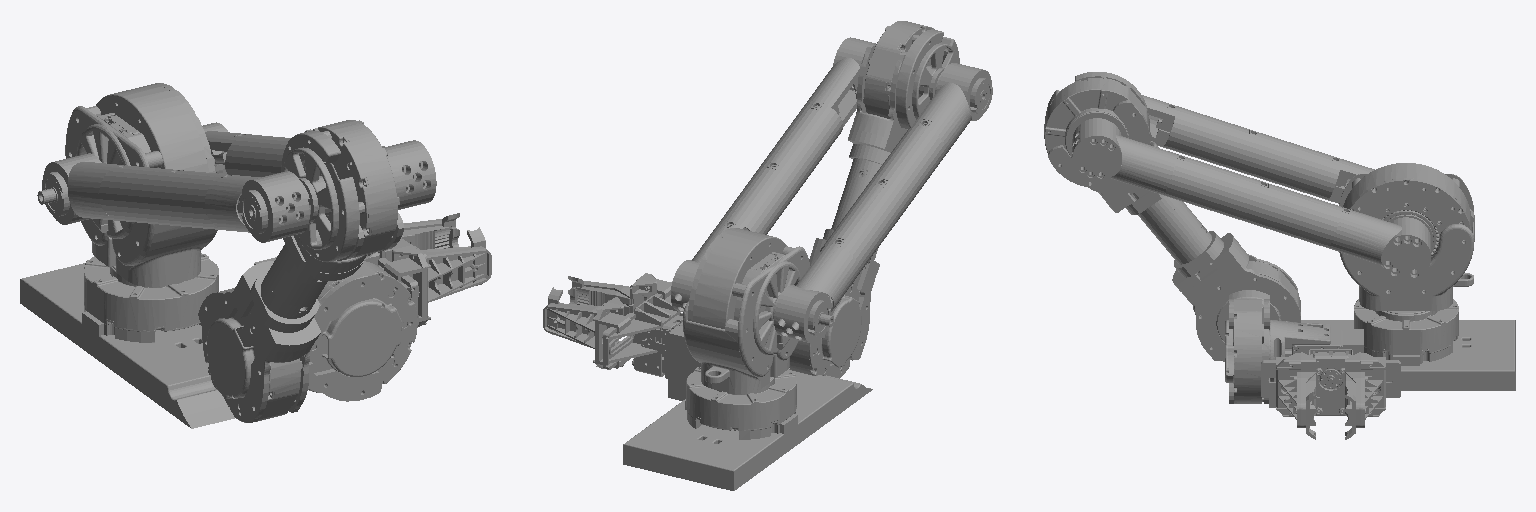
robot.urdf — a6x_robot:
<?xml version="1.0"?>
<robot name="a6x_robot">
    <material name="grey">
        <color rgba="0.64 0.64 0.64 1.0" />
    </material>

    <link name="base_link">
        <visual>
            <geometry>
               <mesh filename="package://a6x_description/meshes/visual/base_link.STL" />
            </geometry>
            <origin xyz="0.000 0.000 0.000" rpy="0.000 0.000 0.000" />
            <material name="grey" />
        </visual>
        <collision>
            <geometry>
               <mesh filename="package://a6x_description/meshes/visual/base_link.STL" />
            </geometry>
            <origin xyz="0.000 0.000 0.000" rpy="0.000 0.000 0.000" />
        </collision>
        <inertial>
            <mass value="2.052381" />
            <origin xyz="0.010773 -0.013141 0.019508" rpy="0 0 0" />
            <inertia ixx="0.007060" ixy="-0.000705" ixz="-0.000013" 
                     iyy="0.003238" iyz="0.000167" 
                     izz="0.009216" />
        </inertial>
    </link>

    <joint name="shoulder_yaw_joint" type="revolute">
        <parent link="base_link" />
        <child link="shoulder_link" />
        <origin xyz="0.000 0.000 0.063" rpy="0 0 0" />
        <axis xyz="0 0 1" />
        <limit lower="-3.14" upper="3.14" effort="10" velocity="1.0" />
    </joint>

    <link name="shoulder_link">
        <visual>
            <geometry>
               <mesh filename="package://a6x_description/meshes/visual/shoulder_link.STL" />
            </geometry>
            <origin xyz="0.000 0.000 0.000" rpy="0.000 0.000 0.000" />
            <material name="grey" />
        </visual>
        <collision>
            <geometry>
               <mesh filename="package://a6x_description/meshes/visual/shoulder_link.STL" />
            </geometry>
            <origin xyz="0.000 0.000 0.000" rpy="0.000 0.000 0.000" />
        </collision>
        <inertial>
            <mass value="0.453182" />
            <origin xyz="-0.012231 0.000430 0.037054" rpy="0 0 0" />
            <inertia ixx="0.000959" ixy="0.000002" ixz="-0.000103" 
                     iyy="0.000618" iyz="-0.000004" 
                     izz="0.000763" />
        </inertial>
    </link>

    <joint name="arm_roll_joint" type="revolute">
        <parent link="shoulder_link" />
        <child link="arm_link" />
        <origin xyz="-0.039 0.000 0.070" rpy="0 0 0" />
        <axis xyz="-1 0 0" />
        <limit lower="-0.785" upper="2.967" effort="10" velocity="1.0" />
    </joint>

    <link name="arm_link">
        <visual>
            <geometry>
               <mesh filename="package://a6x_description/meshes/visual/arm_link.STL" />
            </geometry>
            <origin xyz="0.000 0.000 0.000" rpy="0.000 0.000 0.000" />
            <material name="grey" />
        </visual>
        <collision>
            <geometry>
               <mesh filename="package://a6x_description/meshes/visual/arm_link.STL" />
            </geometry>
            <origin xyz="0.000 0.000 0.000" rpy="0.000 0.000 0.000" />
        </collision>
        <inertial>
            <mass value="1.691838" />
            <origin xyz="0.031472 -0.101109 0.035700" rpy="0 0 0" />
            <inertia ixx="0.024919" ixy="0.000300" ixz="-0.000105" 
                     iyy="0.006756" iyz="-0.007400" 
                     izz="0.024952" />
        </inertial>
    </link>

    <joint name="forearm_roll_joint" type="revolute">
        <parent link="arm_link" />
        <child link="forearm_link" />
        <origin xyz="0.000 -0.283 0.100" rpy="0 0 0" />
        <axis xyz="-1 0 0" />
        <limit lower="-0.205" upper="5.350" effort="10" velocity="1.0" />
    </joint>
    
    <link name="forearm_link">
        <visual>
            <geometry>
               <mesh filename="package://a6x_description/meshes/visual/forearm_link.STL" />
            </geometry>
            <origin xyz="0.000 0.000 0.000" rpy="0.000 0.000 0.000" />
            <material name="grey" />
        </visual>
        <collision>
            <geometry>
               <mesh filename="package://a6x_description/meshes/visual/forearm_link.STL" />
            </geometry>
            <origin xyz="0.000 0.000 0.000" rpy="0.000 0.000 0.000" />
        </collision>
        <inertial>
            <mass value="1.652648" />
            <origin xyz="0.037370 0.063424 -0.084543" rpy="0 0 0" />
            <inertia ixx="0.018666" ixy="0.000252" ixz="-0.000337" 
                     iyy="0.011953" iyz="-0.008070" 
                     izz="0.007223" />
        </inertial>
    </link>

    <joint name="lower_wrist_roll_joint" type="revolute">
        <parent link="forearm_link" />
        <child link="lower_wrist_link" />
        <origin xyz="0.059 0.139 -0.185" rpy="0 0 0" />
        <axis xyz="1 0 0" />
        <limit lower="-3.14" upper="3.14" effort="10" velocity="1.0" />
    </joint>

    <link name="lower_wrist_link">
        <visual>
            <geometry>
              <mesh filename="package://a6x_description/meshes/visual/lower_wrist_link.STL" /> 
            </geometry>
            <origin xyz="0.000 0.000 0.000" rpy="0.000 0.000 0.000" />
            <material name="grey" />
        </visual>
        <collision>
            <geometry>
               <mesh filename="package://a6x_description/meshes/visual/lower_wrist_link.STL" />
            </geometry>
            <origin xyz="0.000 0.000 0.000" rpy="0.000 0.000 0.000" />
        </collision>
        <inertial>
            <mass value="0.628723" />
            <origin xyz="0.052187 0.000889 0.000348" rpy="0 0 0" />
            <inertia ixx="0.000438" ixy="-0.000003" ixz="0.000002" 
                     iyy="0.000865" iyz="-0.000001" 
                     izz="0.000550" />
        </inertial>
    </link>

    <joint name="upper_wrist_pitch_joint" type="revolute">
        <parent link="lower_wrist_link" />
        <child link="upper_wrist_link" />
        <origin xyz="0.060 0.020 0.000" rpy="0 0 0" />
        <axis xyz="0 1 0" />
        <limit lower="-1.57" upper="1.57" effort="10" velocity="1.0" />
    </joint>

    <link name="upper_wrist_link">
        <visual>
            <geometry>
               <mesh filename="package://a6x_description/meshes/visual/upper_wrist_link.STL" />
            </geometry>
            <origin xyz="0.000 0.000 0.000" rpy="0.000 0.000 0.000" />
            <material name="grey" />
        </visual>
        <collision>
            <geometry>
               <mesh filename="package://a6x_description/meshes/visual/upper_wrist_link.STL" />
            </geometry>
            <origin xyz="0.000 0.000 0.000" rpy="0.000 0.000 0.000" />
        </collision>
        <inertial>
            <mass value="0.279057" />
            <origin xyz="-0.001436 0.028250 0.000000" rpy="0 0 0" />
            <inertia ixx="0.000143" ixy="0.000005" ixz="0.000000" 
                     iyy="0.000087" iyz="0.000000" 
                     izz="0.000135" />
        </inertial>
    </link>

    <joint name="palm_roll_joint" type="revolute">
        <parent link="upper_wrist_link" />
        <child link="palm_link" />
        <origin xyz="0.019 0.055 0.000" rpy="0 0 0" />
        <axis xyz="1 0 0" />
        <limit lower="-3.14" upper="3.14" effort="10" velocity="1.0" />
    </joint>

    <link name="palm_link">
        <visual>
            <geometry>
               <mesh filename="package://a6x_description/meshes/visual/palm_link.STL" />
            </geometry>
            <origin xyz="0.000 0.000 0.000" rpy="0.000 0.000 0.000" />
            <material name="grey" />
        </visual>
        <collision>
            <geometry>
               <mesh filename="package://a6x_description/meshes/visual/palm_link.STL" />
            </geometry>
            <origin xyz="0.000 0.000 0.000" rpy="0.000 0.000 0.000" />
        </collision>
        <inertial>
            <mass value="0.216056" />
            <origin xyz="0.026410 0.000000 -0.008366" rpy="0 0 0" />
            <inertia ixx="0.000145" ixy="0.000000" ixz="0.000007" 
                     iyy="0.000080" iyz="0.000000" 
                     izz="0.000126" />
        </inertial>
    </link>

    <joint name="left_finger_prismatic_joint" type="prismatic">
        <parent link="palm_link" />
        <child link="left_finger_link" />
        <origin xyz="0.038 -0.040 0.016" rpy="0 0 0" />
        <axis xyz="0 -1 0" />
        <limit lower="-0.010" upper="0.019" effort="1" velocity="4.8" />
    </joint>

    <joint name="right_finger_prismatic_joint" type="prismatic">
        <mimic joint="left_finger_prismatic_joint" multiplier="-1" offset="0" />
        <parent link="palm_link" />
        <child link="right_finger_link" />
        <origin xyz="0.038 0.040 0.016" rpy="0 0 0" />
        <axis xyz="0 -1 0" />
        <limit lower="-0.019" upper="0.010" effort="1" velocity="4.8" />
    </joint>

    <link name="left_finger_link">
        <visual>
            <geometry>
               <mesh filename="package://a6x_description/meshes/visual/left_finger_link.STL" />
            </geometry>
            <origin xyz="0.000 0.000 0.000" rpy="0.000 0.000 0.000" />
            <material name="grey" />
        </visual>
        <collision>
            <geometry>
               <mesh filename="package://a6x_description/meshes/visual/left_finger_link.STL" />
            </geometry>
            <origin xyz="0.000 0.000 0.000" rpy="0.000 0.000 0.000" />
        </collision>
        <inertial>
            <mass value="0.111661" />
            <origin xyz="0.036901 0.012552 -0.016199" rpy="0 0 0" />
            <inertia ixx="0.000028" ixy="0.000012" ixz="0.000000" 
                     iyy="0.000075" iyz="0.000000" 
                     izz="0.000065" />
        </inertial>
    </link>

    <link name="right_finger_link">
        <visual>
            <geometry>
               <mesh filename="package://a6x_description/meshes/visual/right_finger_link.STL" />
            </geometry>
            <origin xyz="0.000 0.000 0.000" rpy="0.000 0.000 0.000" />
            <material name="grey" />
        </visual>
        <collision>
            <geometry>
               <mesh filename="package://a6x_description/meshes/visual/right_finger_link.STL" />
            </geometry>
            <origin xyz="0.000 0.000 0.000" rpy="0.000 0.000 0.000" />
        </collision>
                <inertial>
            <mass value="0.111661" />
            <origin xyz="0.036898 -0.012549 -0.016201" rpy="0 0 0" />
            <inertia ixx="0.000028" ixy="-0.000012" ixz="0.000000" 
                     iyy="0.000075" iyz="0.000000" 
                     izz="0.000065" />
        </inertial>
    </link>

    <joint name="end_effector_fixed_joint" type="fixed">
        <parent link="palm_link" />
        <child link="end_effector_link" />
        <origin xyz="0.1 0.000 0.000" rpy="0 0 0" />
    </joint>

    <link name="end_effector_link" />
</robot>

--- What the picture shows (computed from the rendered views, not written in the file) ---
Views: 3 orthographic renders of the robot side by side, from view 1: azimuth 30°, elevation 25°; view 2: azimuth 150°, elevation 25°; view 3: azimuth 270°, elevation 25°.
Model a6x_robot with 10 links and 9 joints (6 revolute, 2 prismatic, 1 fixed), rooted at base_link, posed every joint at zero.
Visible links, largest first — view 1: forearm_link, arm_link, base_link, lower_wrist_link, shoulder_link, left_finger_link, right_finger_link, palm_link; view 2: arm_link, base_link, forearm_link, shoulder_link, palm_link, right_finger_link, left_finger_link; view 3: arm_link, forearm_link, base_link, shoulder_link, lower_wrist_link, palm_link, right_finger_link, left_finger_link, upper_wrist_link.
Link boxes in pixels (left/top/right/bottom): forearm_link: left=198, top=120, right=404, bottom=422; arm_link: left=37, top=83, right=436, bottom=242; base_link: left=20, top=253, right=276, bottom=428; lower_wrist_link: left=308, top=261, right=417, bottom=401; shoulder_link: left=65, top=106, right=217, bottom=286; left_finger_link: left=384, top=227, right=491, bottom=326; right_finger_link: left=378, top=213, right=459, bottom=261; palm_link: left=364, top=252, right=418, bottom=324; arm_link: left=671, top=37, right=992, bottom=343; base_link: left=623, top=326, right=872, bottom=490; forearm_link: left=789, top=21, right=959, bottom=378; shoulder_link: left=683, top=246, right=809, bottom=393; palm_link: left=603, top=281, right=682, bottom=378; right_finger_link: left=543, top=287, right=630, bottom=368; left_finger_link: left=568, top=273, right=671, bottom=315; arm_link: left=1072, top=95, right=1471, bottom=291; forearm_link: left=1044, top=72, right=1300, bottom=361; base_link: left=1269, top=299, right=1515, bottom=407; shoulder_link: left=1339, top=174, right=1474, bottom=310; lower_wrist_link: left=1225, top=290, right=1270, bottom=403; palm_link: left=1261, top=349, right=1400, bottom=415; right_finger_link: left=1342, top=352, right=1385, bottom=439; left_finger_link: left=1276, top=352, right=1319, bottom=439; upper_wrist_link: left=1271, top=320, right=1342, bottom=381.
Bounding box of the posed robot: 0.3132 × 0.4312 × 0.2813 m (x, y, z).
9 mesh visuals loaded from 9 distinct referenced files (9 binary STL).
